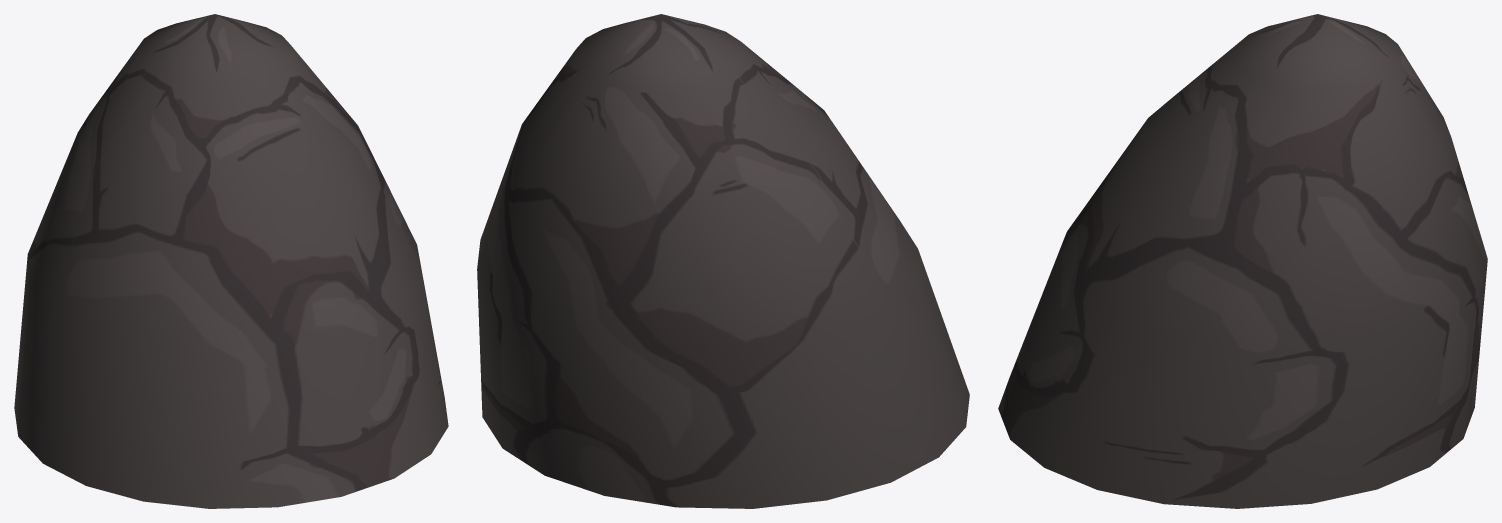
The model's file is rock_spike_extra.fbx.
3 views of the same model, side by side, from view 1: azimuth 30°, elevation 25°; view 2: azimuth 150°, elevation 25°; view 3: azimuth 270°, elevation 25° (orthographic). The views are drawn at different scales.
Visible parts, largest first — view 1: rockspike_extra; view 2: rockspike_extra; view 3: rockspike_extra.
Boxes of the visible parts, bbox=[...] form: rockspike_extra: bbox=[14, 14, 448, 508]; rockspike_extra: bbox=[477, 14, 969, 508]; rockspike_extra: bbox=[998, 14, 1487, 508].
Size of the model in its own units: 29.1 by 27.3 by 29.9.
